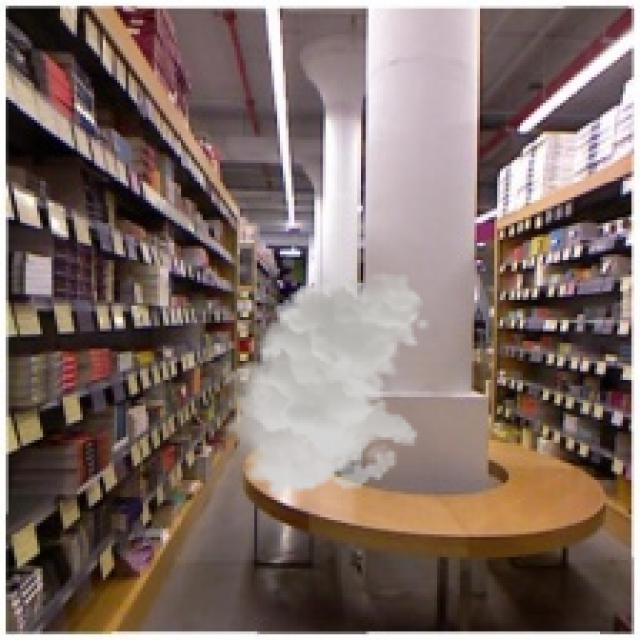smoke: (217, 272, 432, 497)
